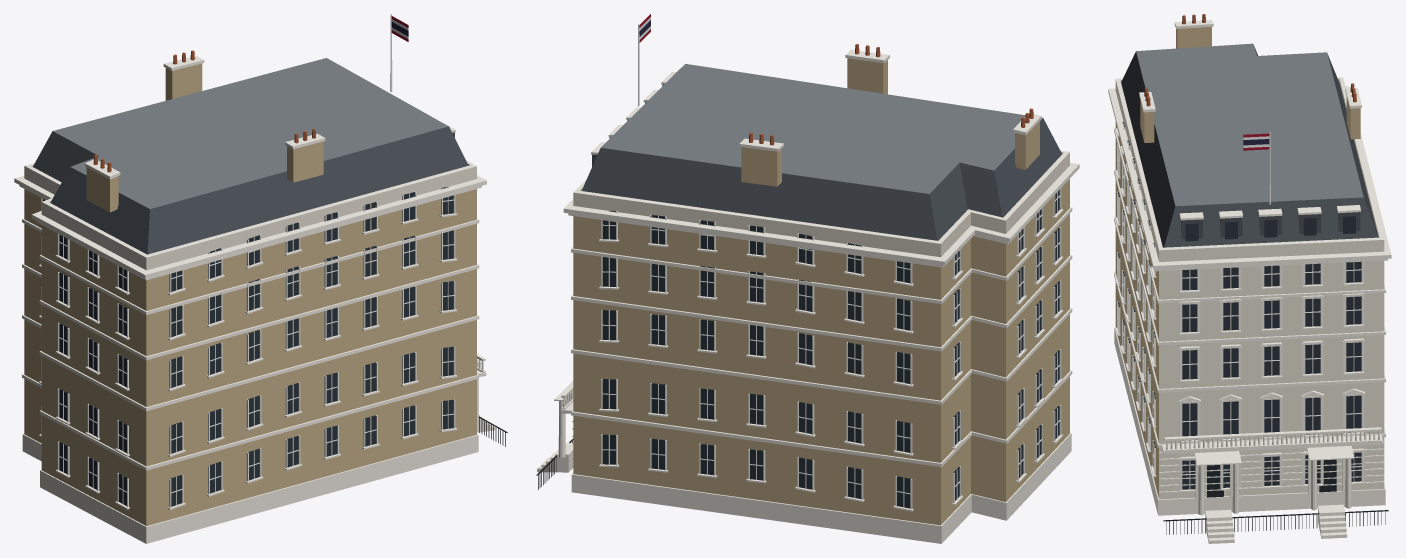
Rendered from royal_thai_embassy.glb.
3 renders of one model, left to right at view 1: azimuth 30°, elevation 25°; view 2: azimuth 150°, elevation 25°; view 3: azimuth 270°, elevation 25°, orthographic. The views are drawn at different scales.
Size of the model in its own units: 31.66 by 29.03 by 19.58.
